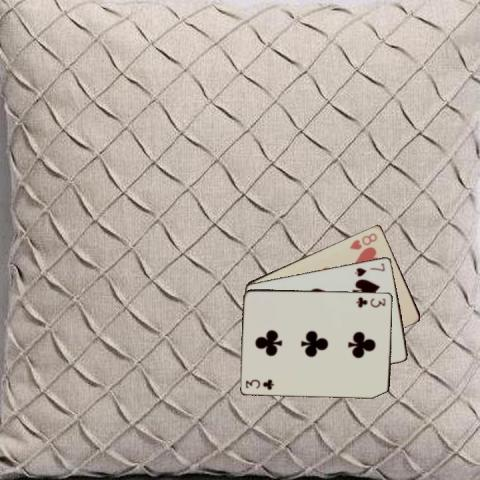3c: (353, 294, 387, 309), (243, 376, 275, 390)
7s: (352, 260, 386, 278)
8h: (346, 230, 378, 251)
